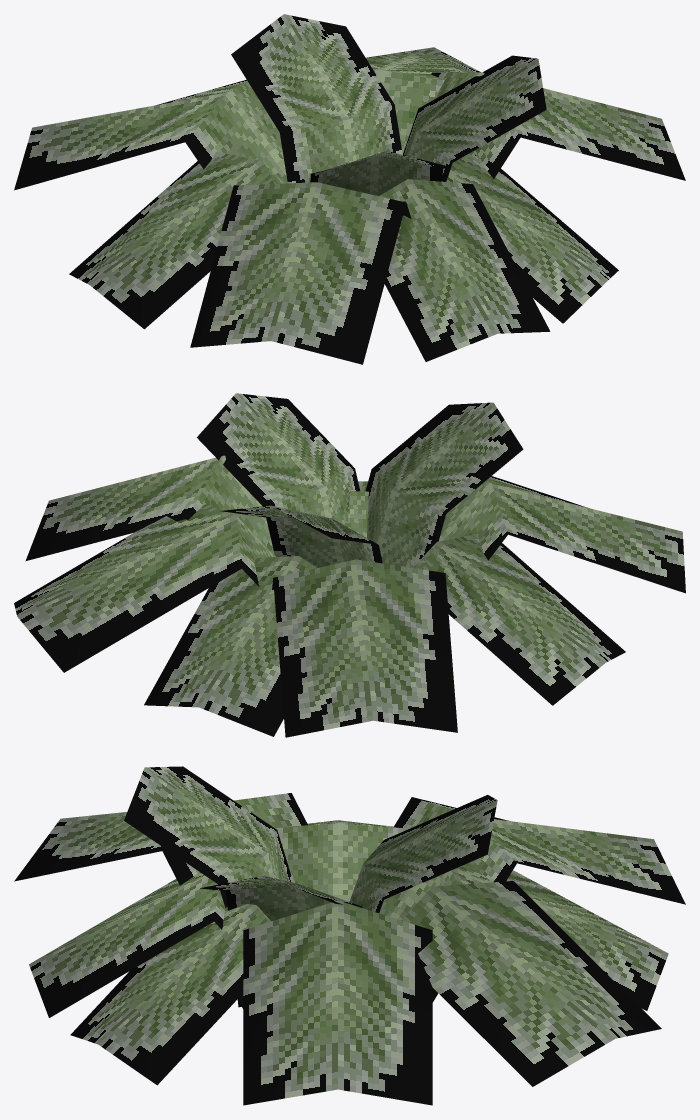
The model's file is sbushtro_0.dae.
3 views of the same model, one above another, from view 1: azimuth 30°, elevation 25°; view 2: azimuth 150°, elevation 25°; view 3: azimuth 270°, elevation 25° (orthographic). The views are drawn at different scales.
Parts seen in each view (by area): view 1: sbushtro_0; view 2: sbushtro_0; view 3: sbushtro_0.
Boxes of the visible parts, bbox=[...] form: sbushtro_0: bbox=[14, 14, 685, 364]; sbushtro_0: bbox=[14, 393, 685, 737]; sbushtro_0: bbox=[14, 766, 685, 1105].
Size of the model in its own units: 3.84 by 3.66 by 1.31.
Materials: 1 (1 with a texture image).
